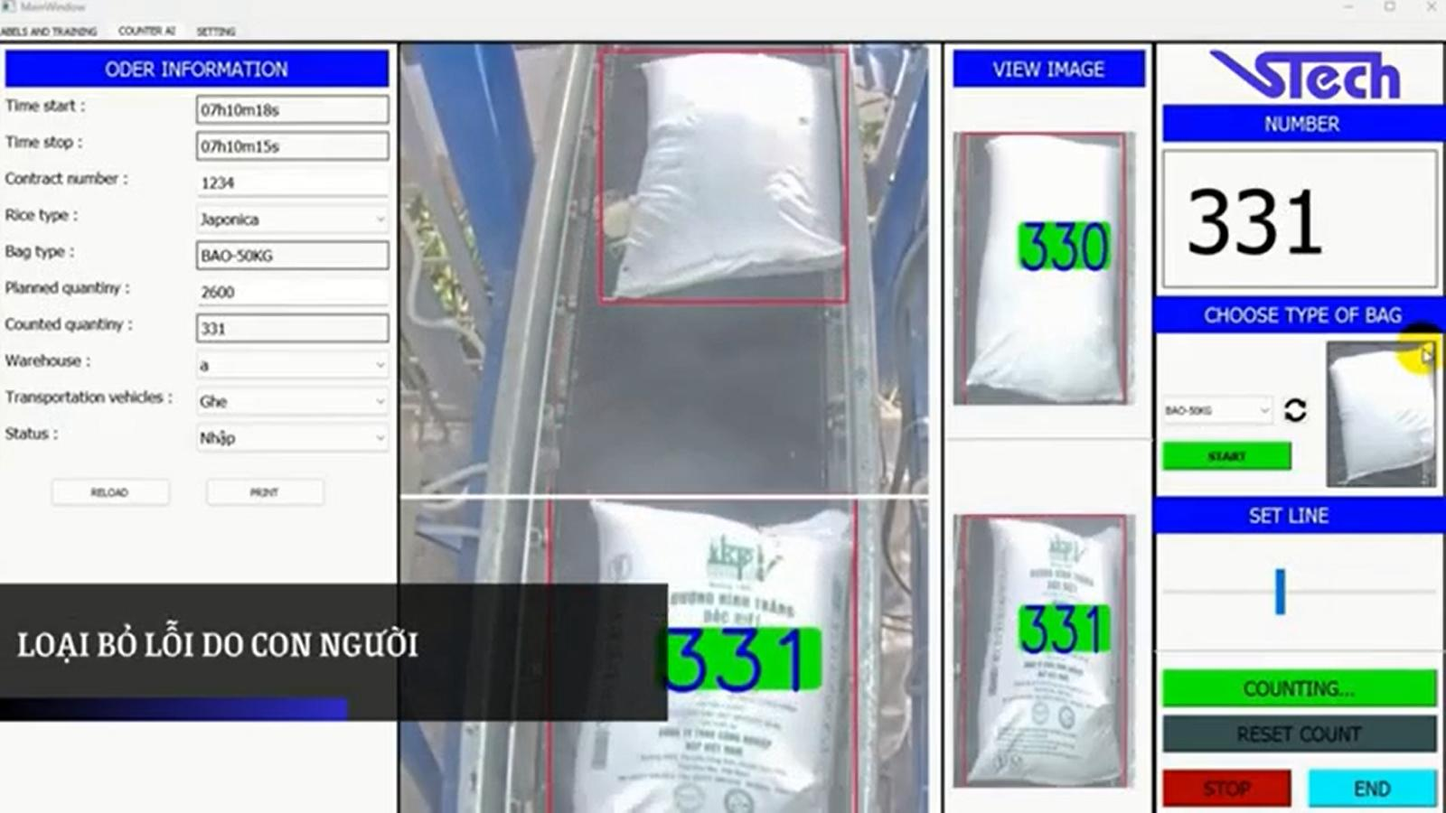rice-bag: (573, 501, 852, 812), (603, 51, 847, 298), (966, 520, 1122, 786), (966, 136, 1119, 402)
